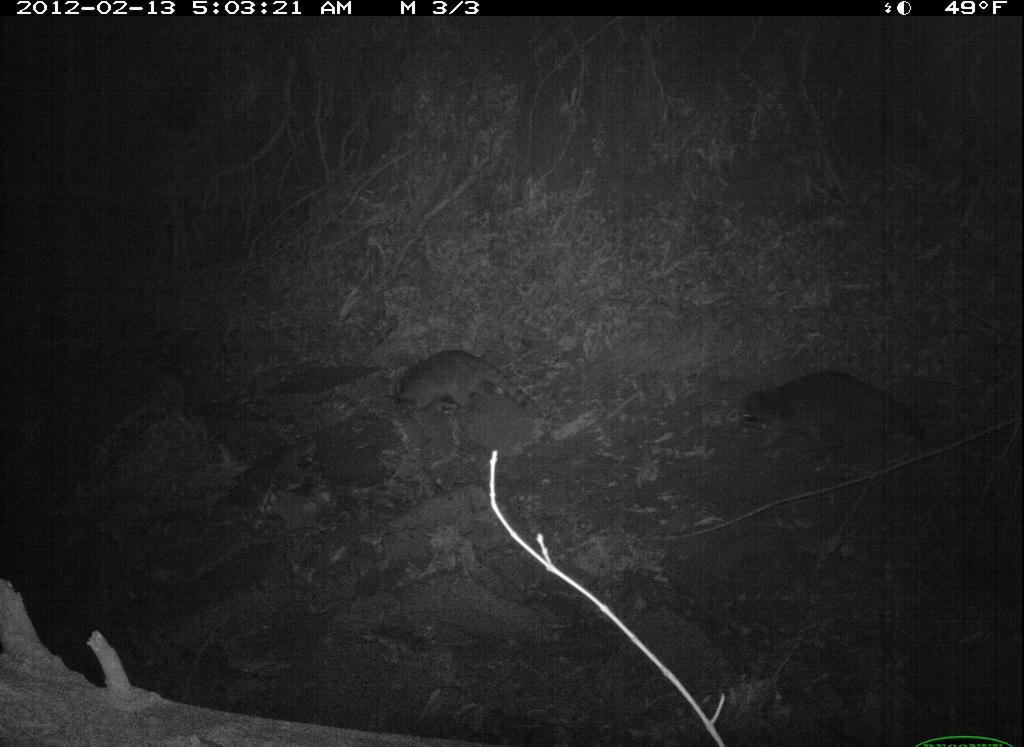raccoon: (729, 365, 940, 463), (391, 344, 551, 428)
